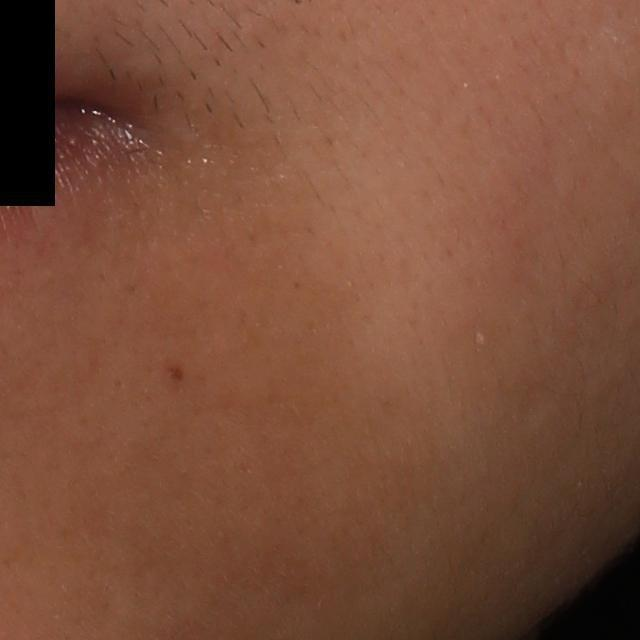nevus: (164, 363, 184, 385)
